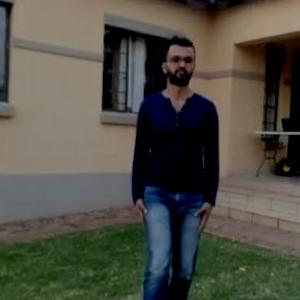follow: (133, 33, 218, 277)
